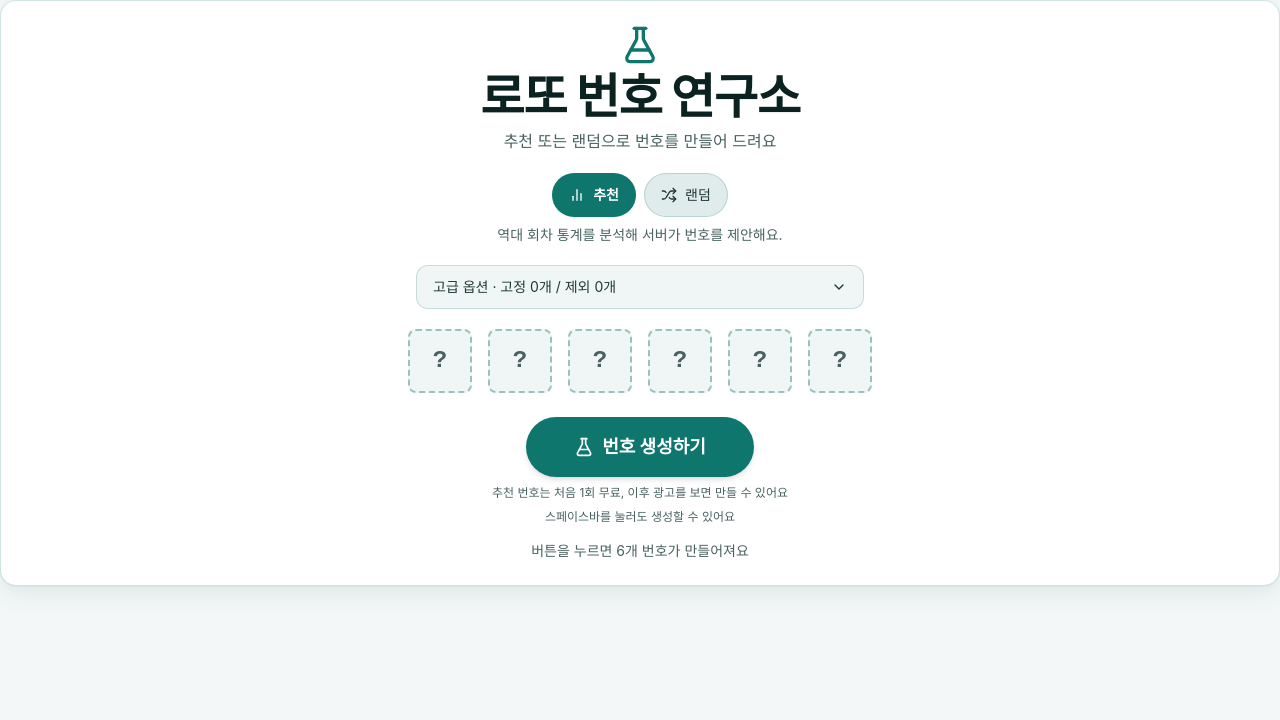
Test: Generator › 광고 구조(랜덤 무료, 추천만 광고) › 랜덤 모드에서는 무료 안내 문구를 보여 준다
Click the button "랜덤" at [686, 195], box [644, 173, 728, 217]
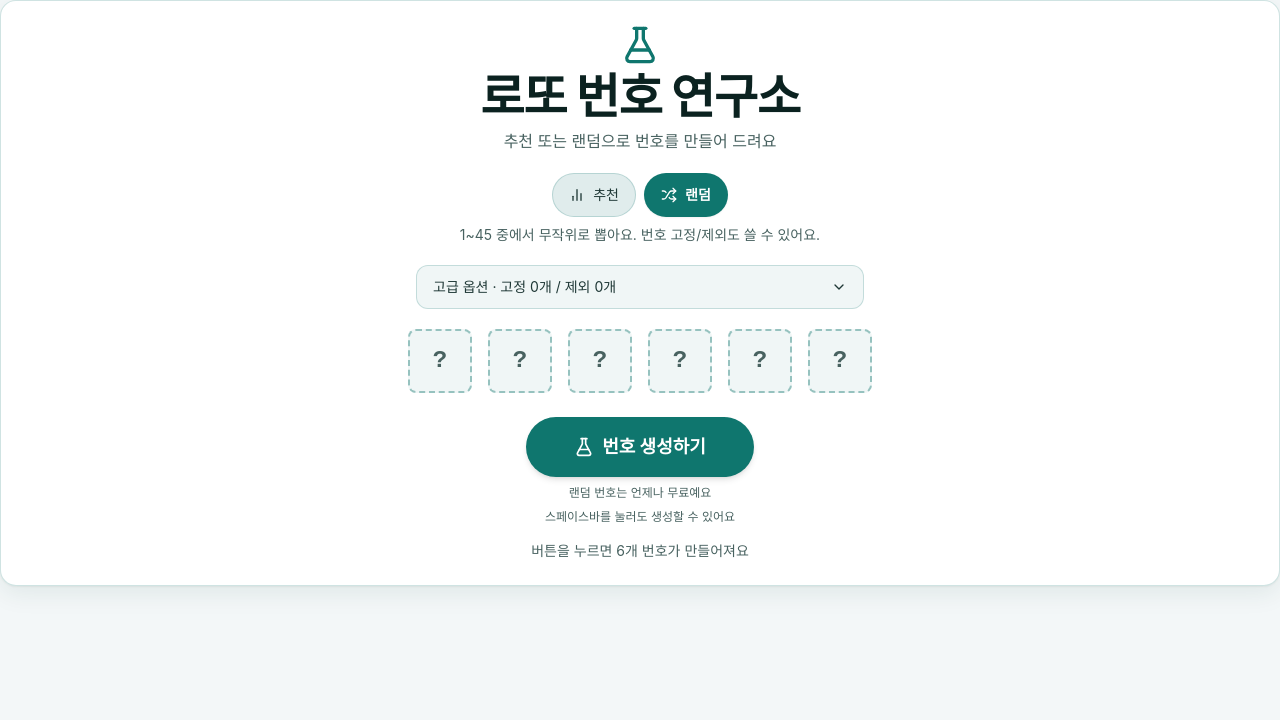
Now the text "랜덤 번호는 언제나 무료예요" is shown, box [569, 485, 711, 500]
